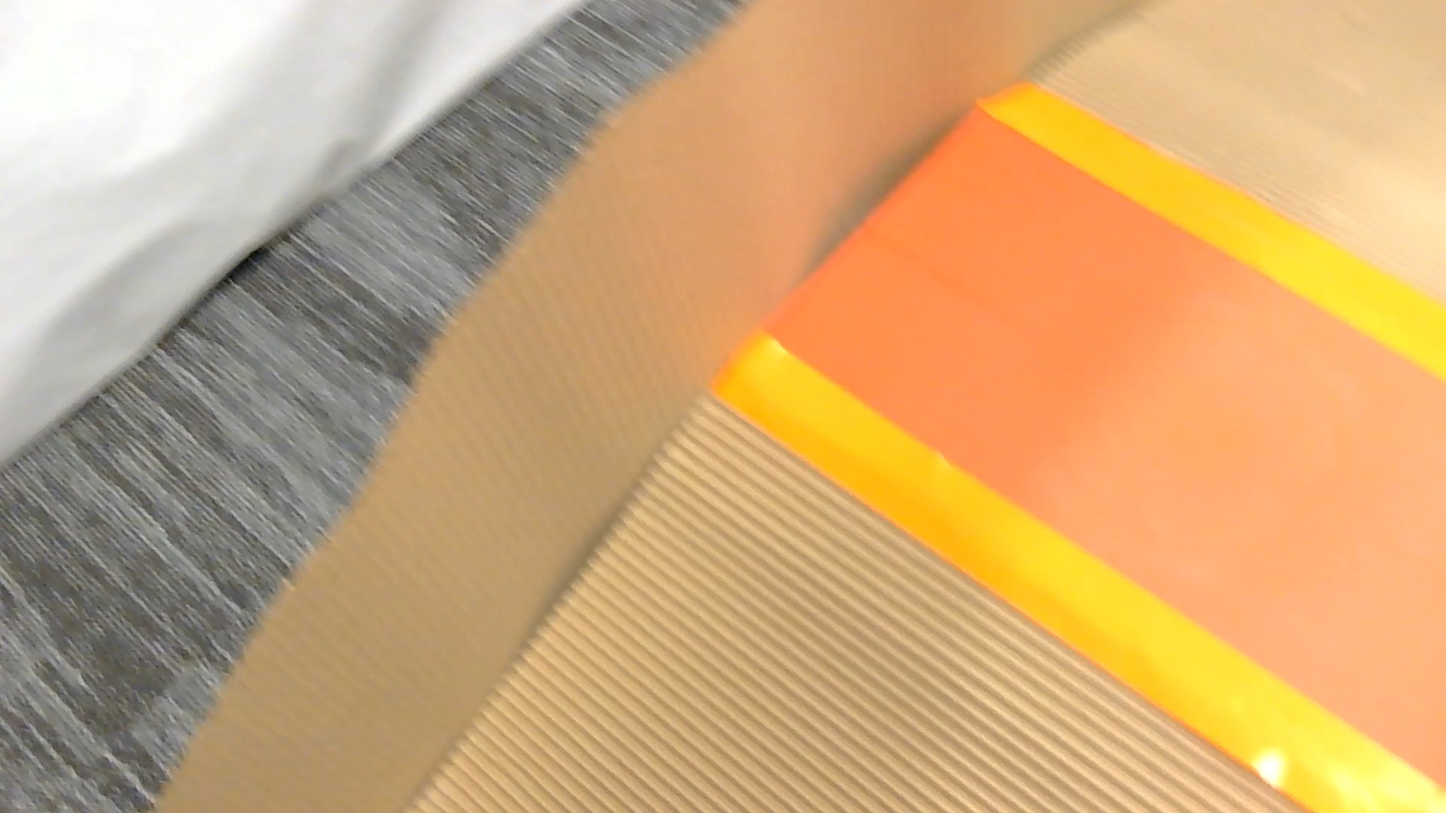Ramp: (157, 0, 1445, 812)
